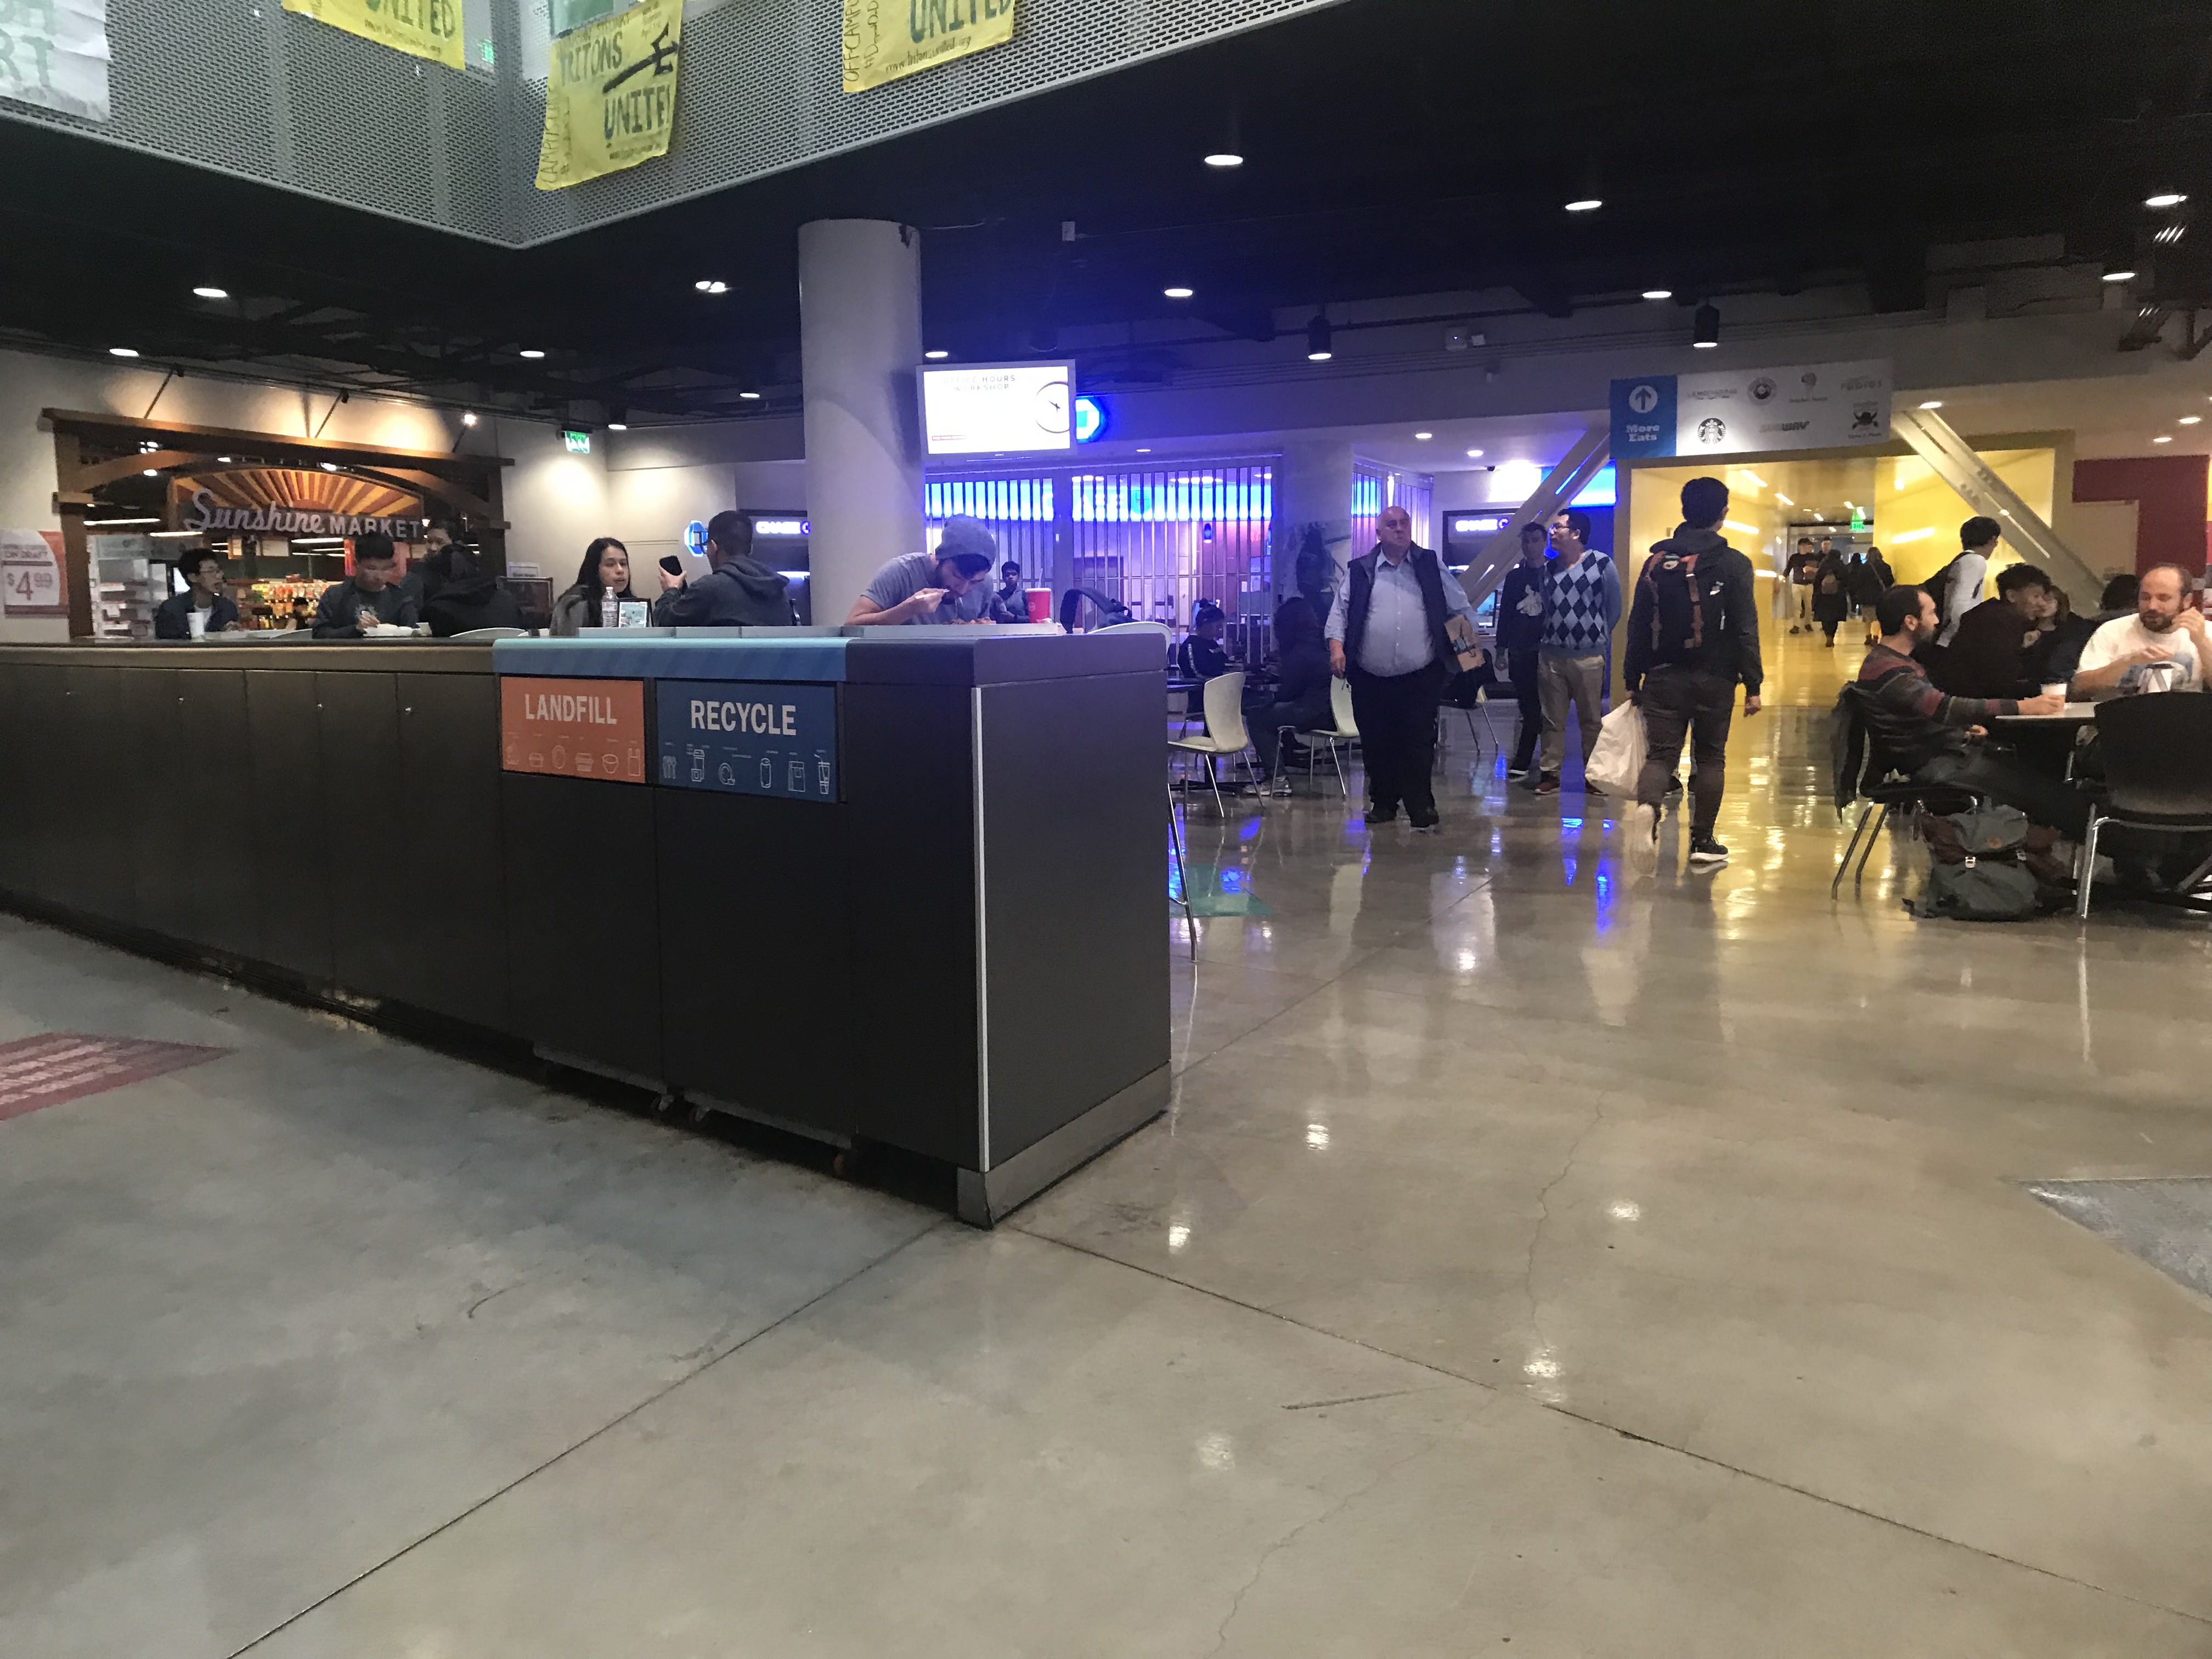Obstacle: (17, 655, 1167, 1218)
